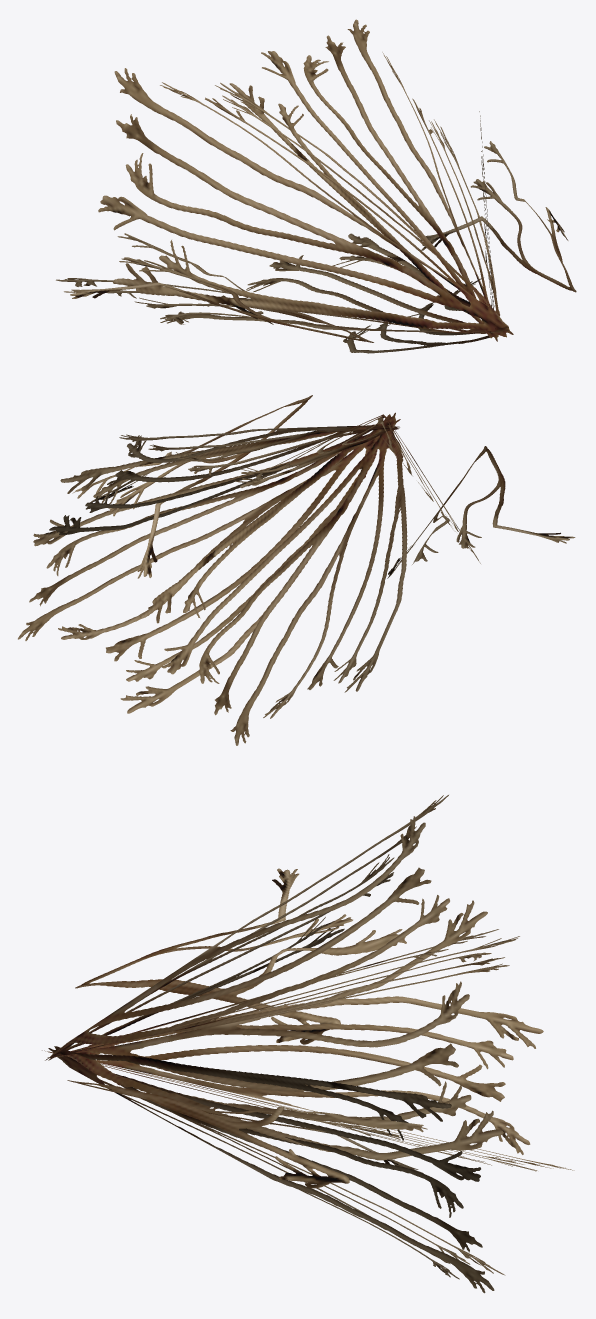
Rendered from MEP_D_Grass_b_01.fbx.
3 views of the same model, one above another, from view 1: azimuth 30°, elevation 25°; view 2: azimuth 150°, elevation 25°; view 3: azimuth 270°, elevation 25° (orthographic). The views are drawn at different scales.
Parts seen in each view (by area): view 1: MEP_D_Grass_b_01; view 2: MEP_D_Grass_b_01; view 3: MEP_D_Grass_b_01.
Part boxes in pixels (<box>): MEP_D_Grass_b_01: <box>56,19,576,353</box>; MEP_D_Grass_b_01: <box>18,395,575,745</box>; MEP_D_Grass_b_01: <box>42,795,574,1293</box>.
Bounding box in the file's own units: 1.25 × 0.8239 × 1.12.
